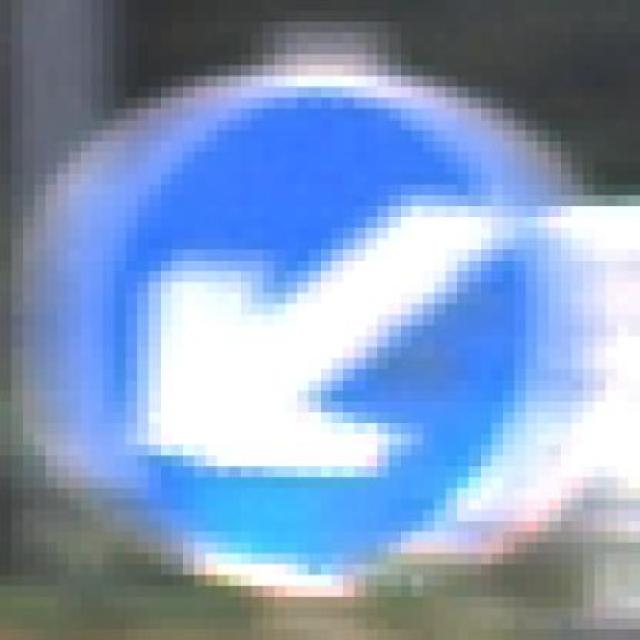Keep-Left: (69, 65, 548, 608)
